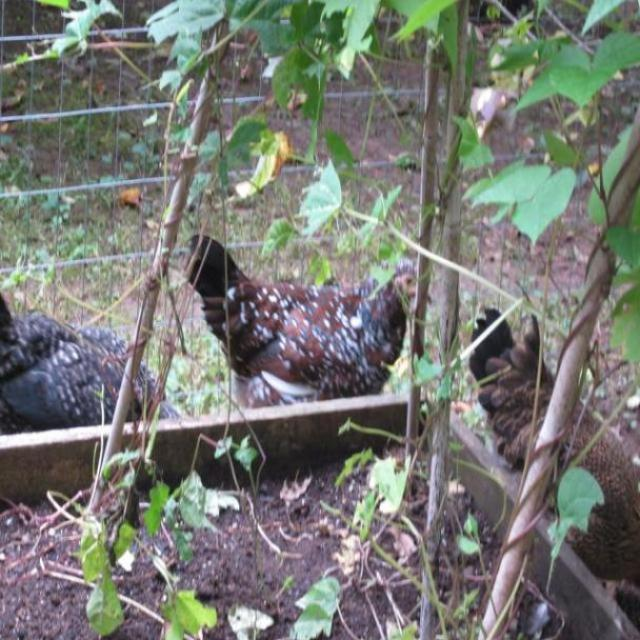Chicken: (185, 231, 420, 380)
